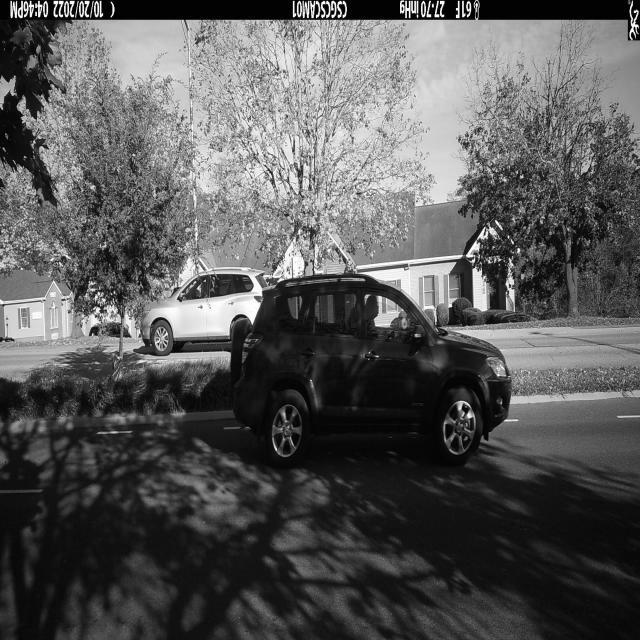SUV: (231, 274, 512, 467), (140, 268, 268, 357)
